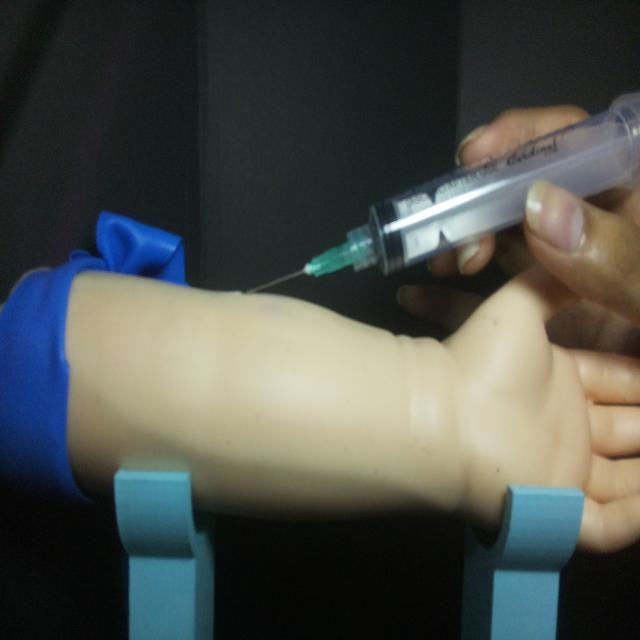18deg: (240, 88, 638, 298)
